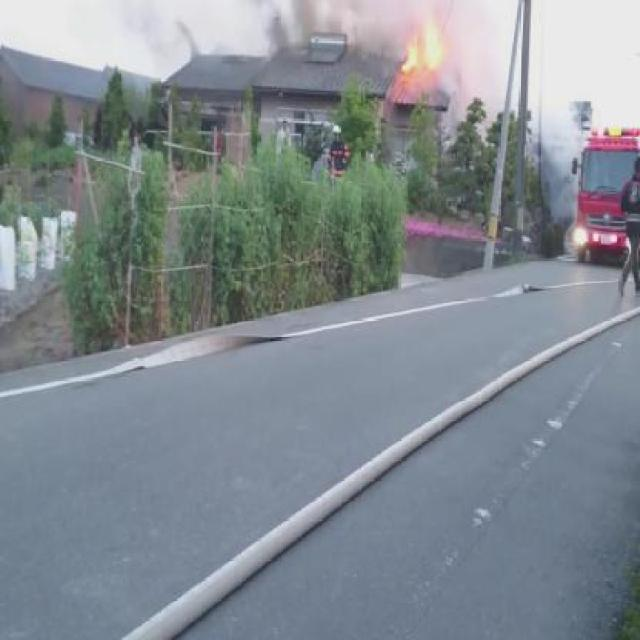Fire: (404, 16, 446, 73)
